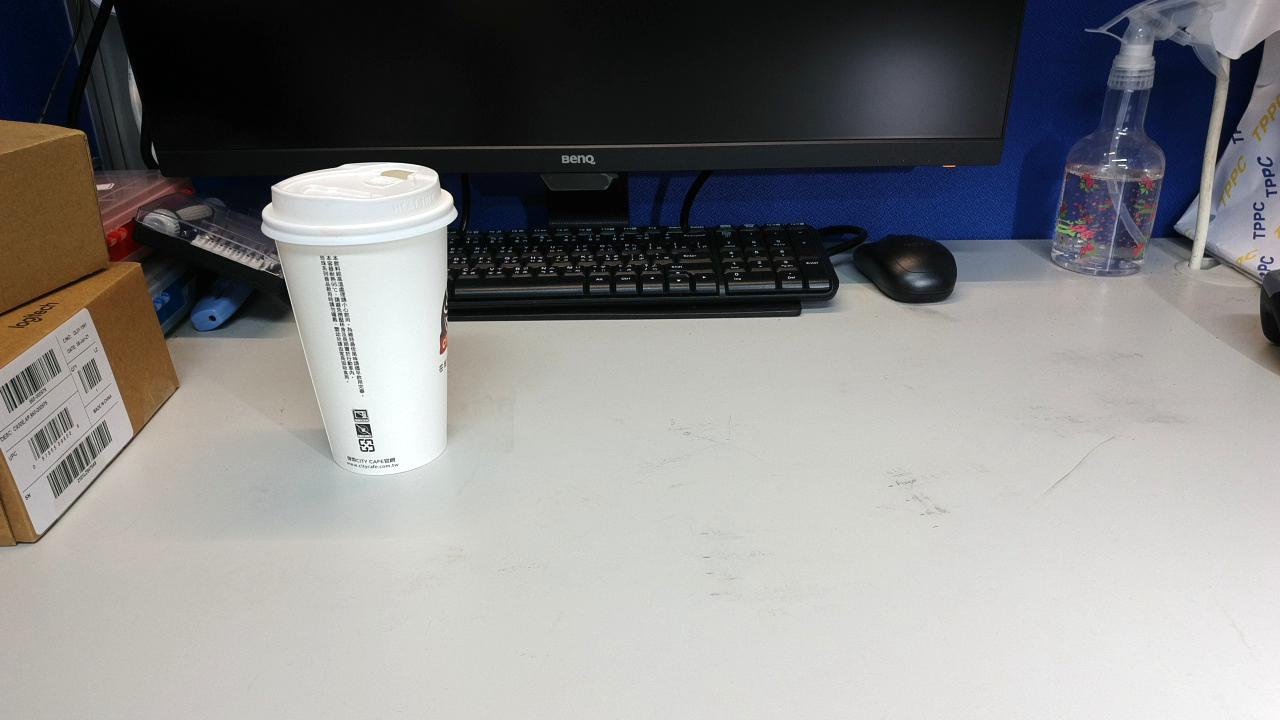columnar: (1014, 212, 1214, 411)
grip: (1162, 280, 1251, 384)
